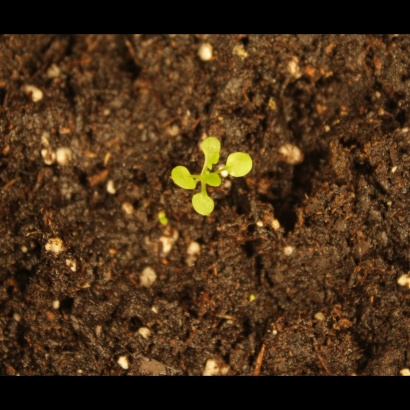leaf: (223, 149, 256, 181), (196, 132, 223, 170), (167, 161, 198, 193), (189, 189, 219, 221), (198, 169, 221, 192)
